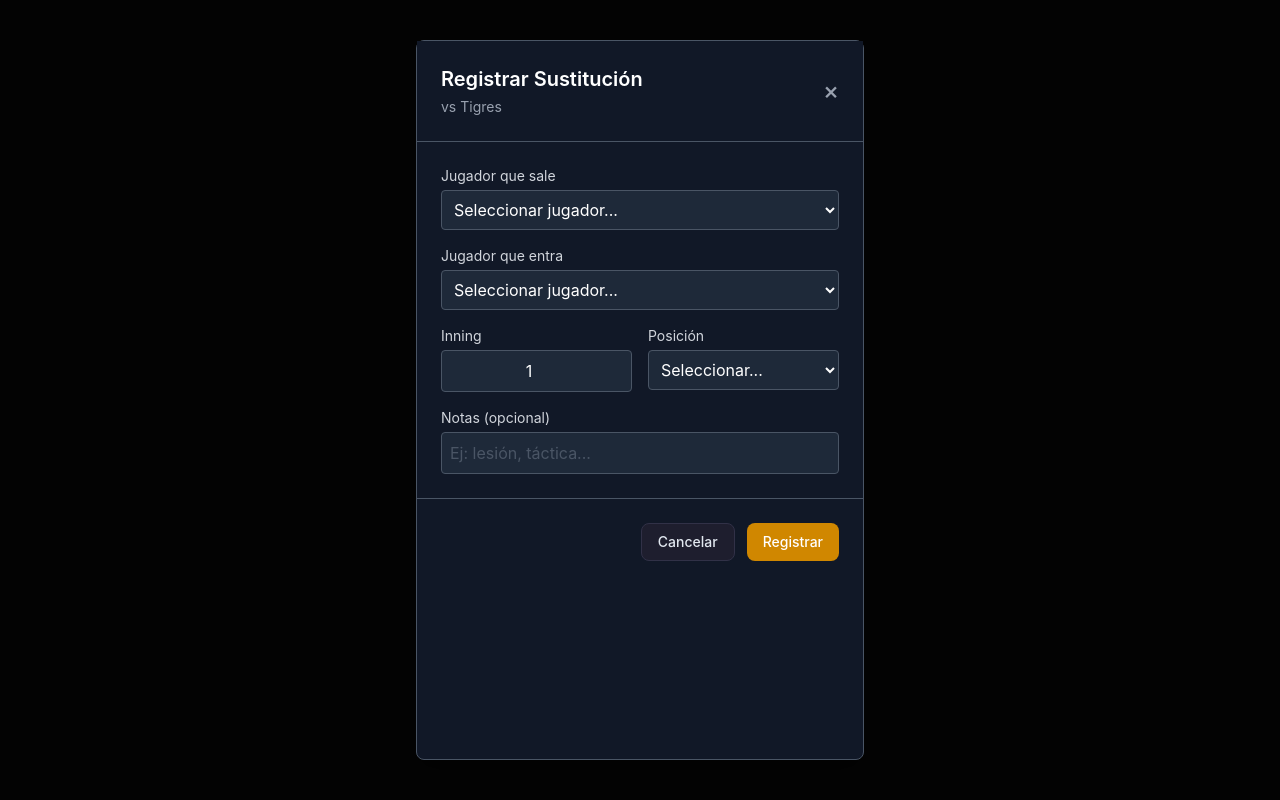
Scenario: SubstitutionModal — herencia de posición › hereda la posición del jugador que sale al seleccionarlo
Select "Bat #1 — #5 Juan García (SS)" in the dropdown below "Jugador que sale" at [640, 210], box [441,190,839,230]
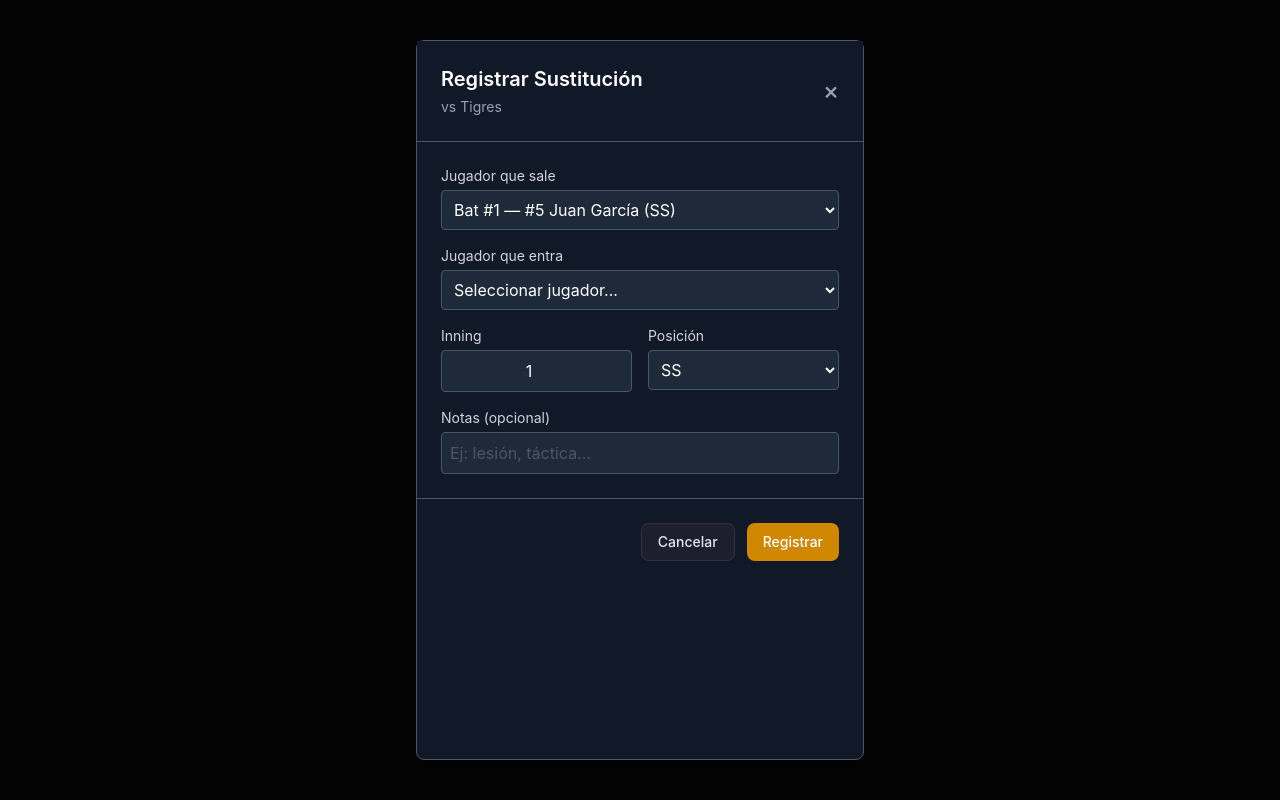
Now the dropdown below "Posición" shows "SS", box [648,350,839,390]
